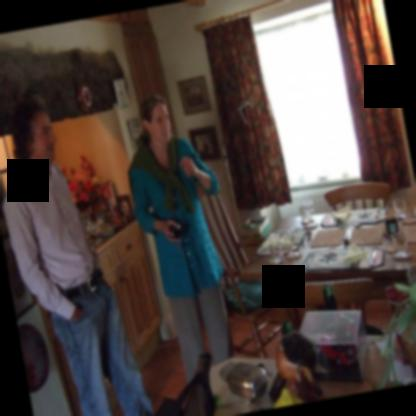handbag: (153, 374, 216, 416), (181, 350, 212, 416)
